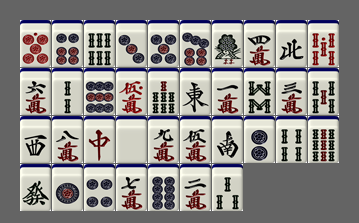0m: (116, 68, 147, 115)
0p: (20, 20, 51, 67)
0s: (308, 20, 339, 67)
1m: (212, 68, 243, 115)
1p: (52, 164, 83, 211)
1s: (212, 20, 243, 67)
1z: (180, 68, 211, 115)
2m: (180, 164, 211, 211)
2p: (244, 116, 275, 163)
2s: (52, 68, 83, 115)
2z: (212, 116, 243, 163)
3m: (276, 68, 307, 115)
3p: (116, 20, 147, 67)
3s: (212, 164, 243, 211)
3z: (20, 116, 51, 163)
4m: (244, 20, 275, 67)
4p: (84, 164, 115, 211)
4s: (276, 116, 307, 163)
4z: (276, 20, 307, 67)
5m: (180, 116, 211, 163)
5p: (148, 20, 179, 67)
5s: (308, 68, 339, 115)
5z: (116, 116, 147, 163)
6m: (20, 68, 51, 115)
6p: (52, 20, 83, 67)
6s: (84, 20, 115, 67)
6z: (20, 164, 51, 211)
7m: (116, 164, 147, 211)
7p: (180, 20, 211, 67)
7s: (148, 68, 179, 115)
7z: (84, 116, 115, 163)
8m: (52, 116, 83, 163)
8p: (148, 164, 179, 211)
8s: (244, 68, 275, 115)
9m: (148, 116, 179, 163)
9p: (84, 68, 115, 115)
9s: (308, 116, 339, 163)
